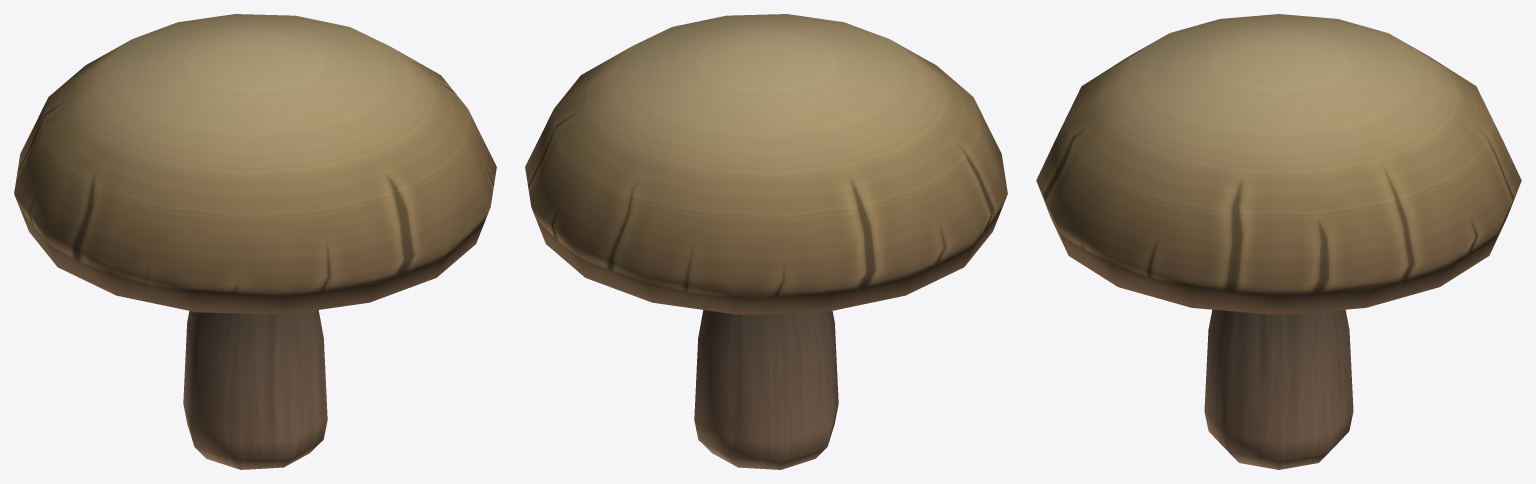
File: ENV1410005.FBX
The picture shows the model from 3 angles, left to right: view 1: azimuth 30°, elevation 25°; view 2: azimuth 150°, elevation 25°; view 3: azimuth 270°, elevation 25°; orthographic projection.
Visible parts, largest first — view 1: smENV1410005; view 2: smENV1410005; view 3: smENV1410005.
Boxes of the visible parts, x1=… form: smENV1410005: x1=14, y1=14, x2=496, y2=469; smENV1410005: x1=525, y1=14, x2=1007, y2=469; smENV1410005: x1=1036, y1=14, x2=1521, y2=469.
Bounding box in the file's own units: 12.23 × 11.23 × 12.23.
Materials: 1 (1 with a texture image).
